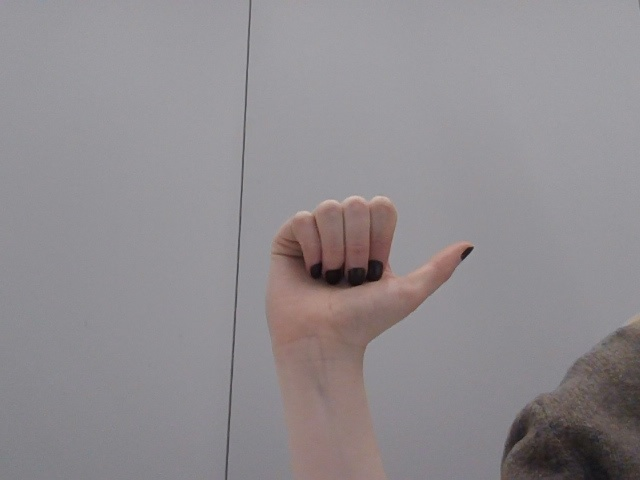left: (234, 175, 490, 370)
